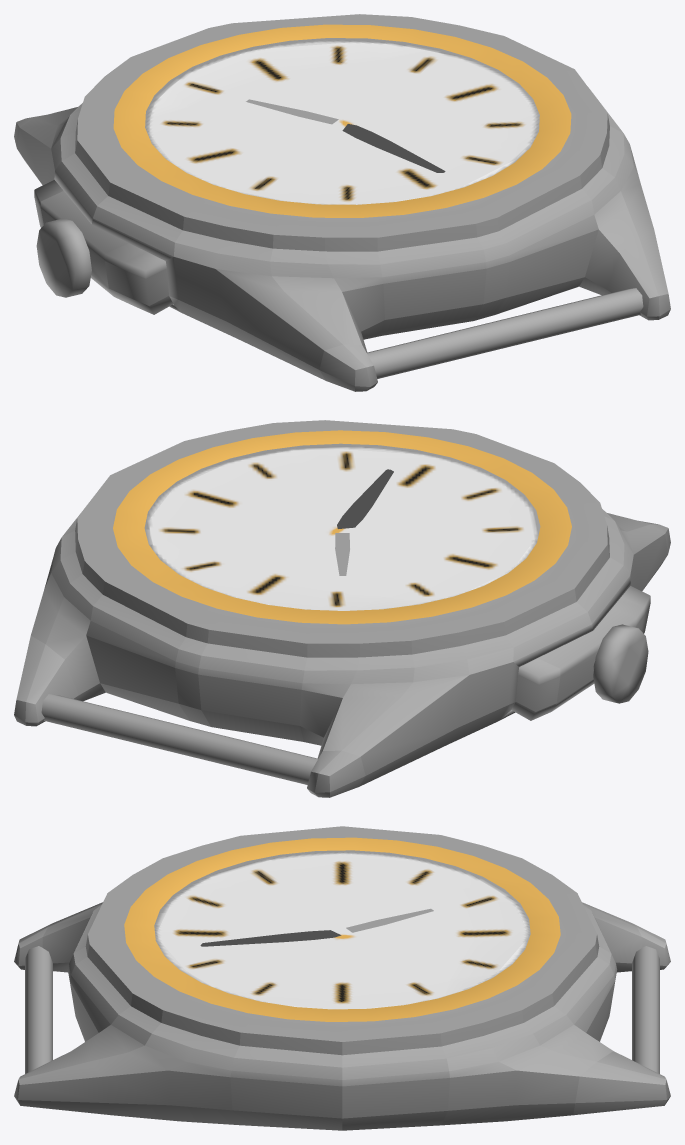
The model's file is Watch_Default.fbx.
3 views of the same model, one above another, from view 1: azimuth 30°, elevation 25°; view 2: azimuth 150°, elevation 25°; view 3: azimuth 270°, elevation 25° (orthographic). The views are drawn at different scales.
Parts seen in each view (by area): view 1: polySurface8; view 2: polySurface8; view 3: polySurface8.
Part boxes in pixels (x1,y1,x2,y2): polySurface8: (14,14,670,391); polySurface8: (14,420,670,797); polySurface8: (14,826,670,1130).
Size of the model in its own units: 604 by 140 by 672.
